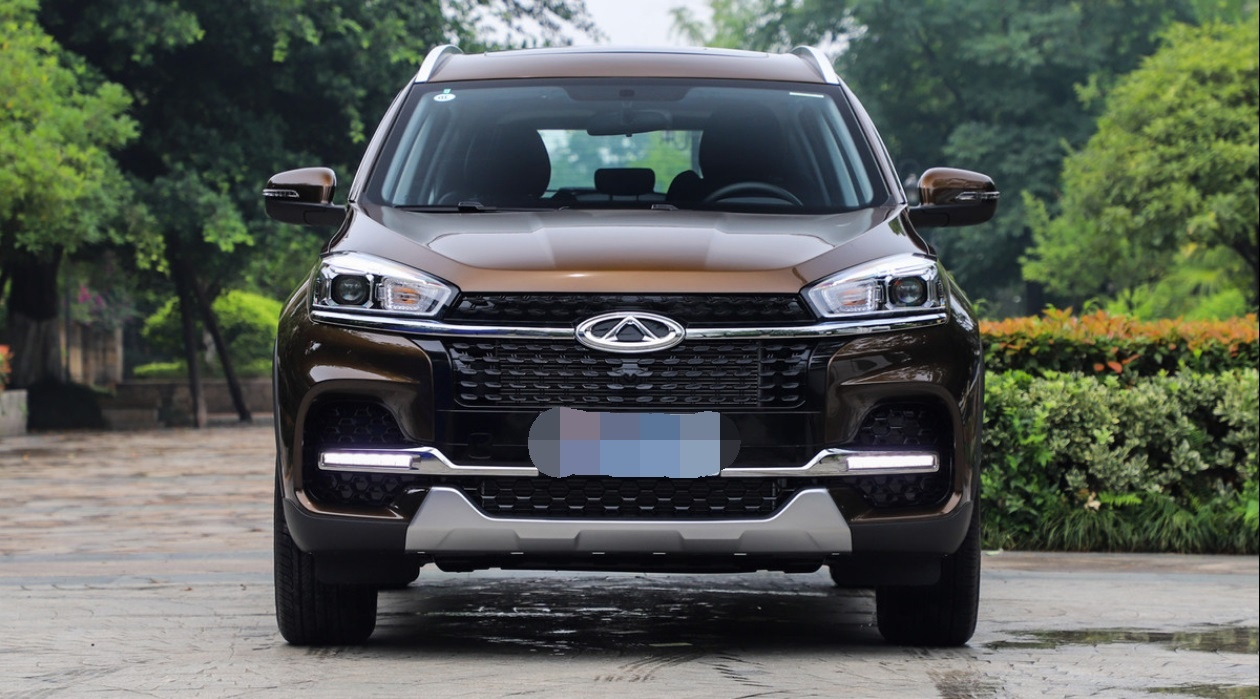SUV: (222, 35, 1027, 677)
